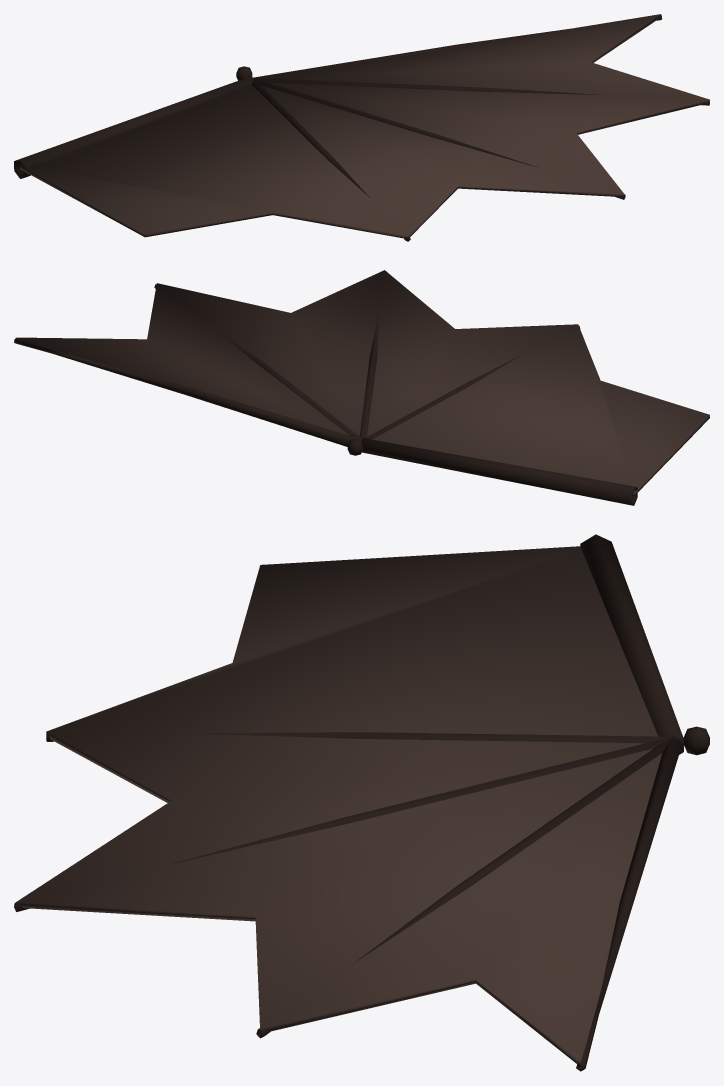
The model's file is Koumori_Wing.fbx.
The picture shows the model from 3 angles, top to bottom: view 1: azimuth 30°, elevation 25°; view 2: azimuth 150°, elevation 25°; view 3: azimuth 270°, elevation 25°; orthographic projection. The views are drawn at different scales.
Parts seen in each view (by area): view 1: Koumori_Wing; view 2: Koumori_Wing; view 3: Koumori_Wing.
Boxes of the visible parts, x1,y1,x2,y2 form: Koumori_Wing: (14, 14, 709, 241); Koumori_Wing: (14, 270, 709, 505); Koumori_Wing: (14, 534, 709, 1071).
Size of the model in its own units: 4.01 by 0.17 by 2.28.
